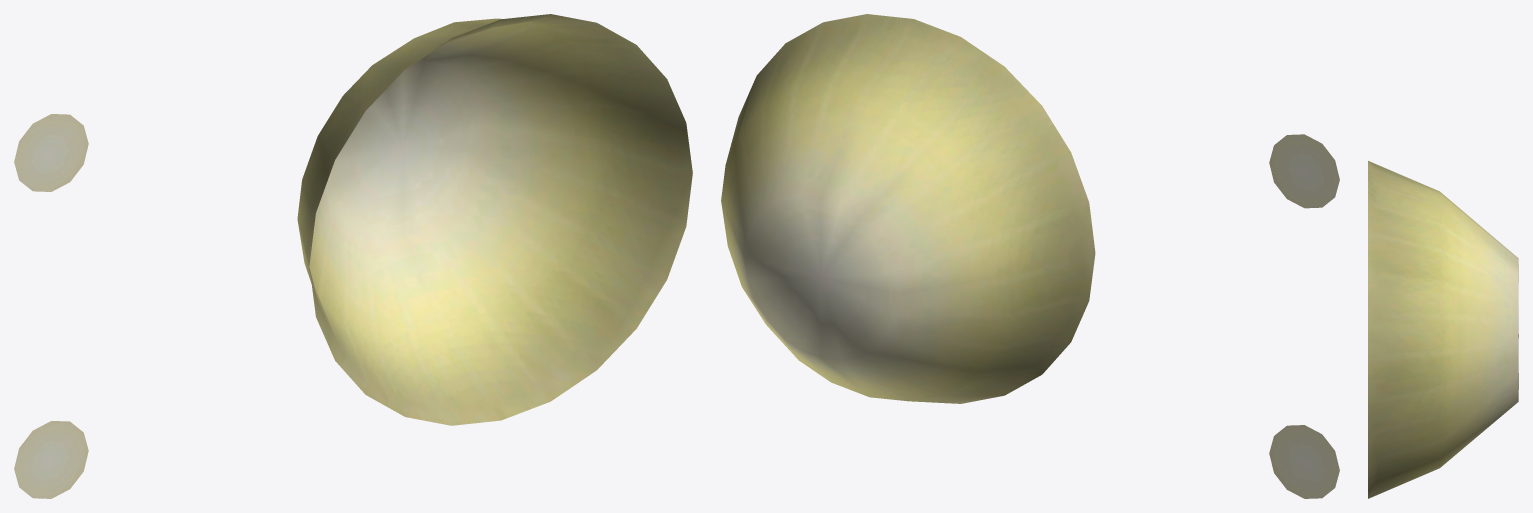
File: star_destroyer_space_engine1_on_l0.fbx
3 renders of one model, left to right at view 1: azimuth 30°, elevation 25°; view 2: azimuth 150°, elevation 25°; view 3: azimuth 270°, elevation 25°, orthographic. The views are drawn at different scales.
Visible parts, largest first — view 1: mesh_node; view 2: mesh_node; view 3: mesh_node.
Part boxes in pixels (x1,y1,x2,y2): mesh_node: (14,14,692,498); mesh_node: (721,14,1339,498); mesh_node: (1368,161,1518,498).
Bounding box in the file's own units: 264 × 153 × 68.08.
